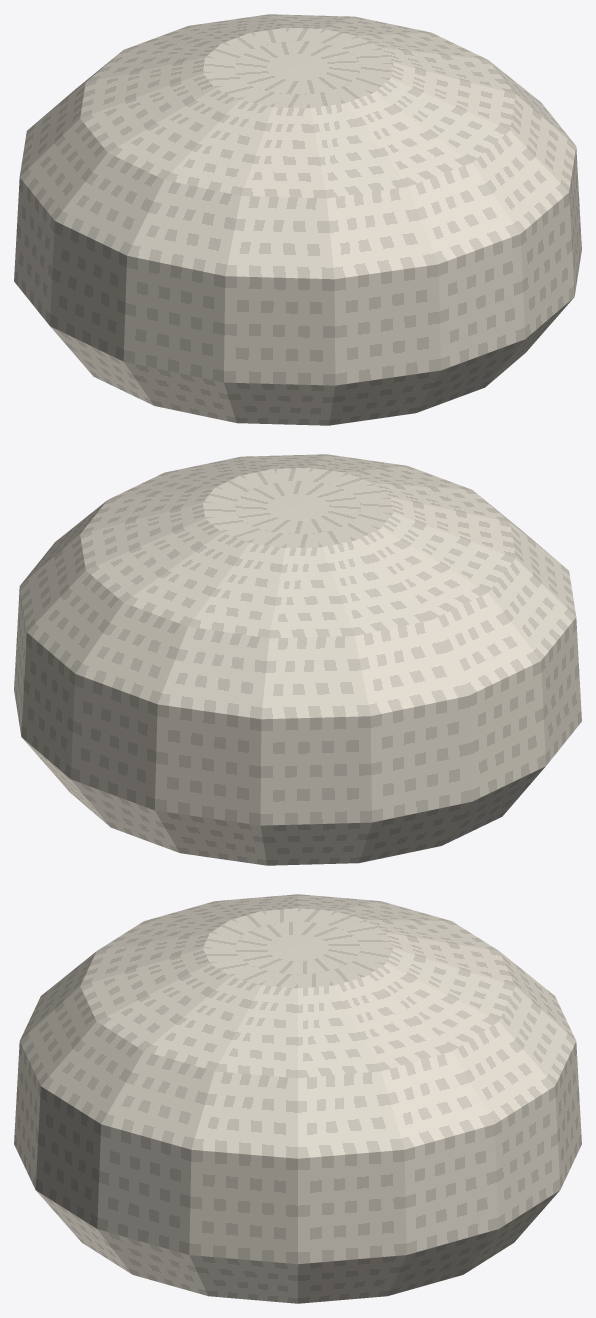
The model's file is turban.glb.
3 views of the same model, one above another, from view 1: azimuth 30°, elevation 25°; view 2: azimuth 150°, elevation 25°; view 3: azimuth 270°, elevation 25° (orthographic).
Visible parts, largest first — view 1: block_shaped hat crown and brim; view 2: block_shaped hat crown and brim; view 3: block_shaped hat crown and brim.
Boxes of the visible parts, left/top/right/bottom form: block_shaped hat crown and brim: left=14, top=14, right=581, bottom=425; block_shaped hat crown and brim: left=14, top=454, right=581, bottom=865; block_shaped hat crown and brim: left=14, top=894, right=581, bottom=1303.
Bounding box in the file's own units: 0.1588 × 0.0794 × 0.1588.
1 material, 1 textured.
